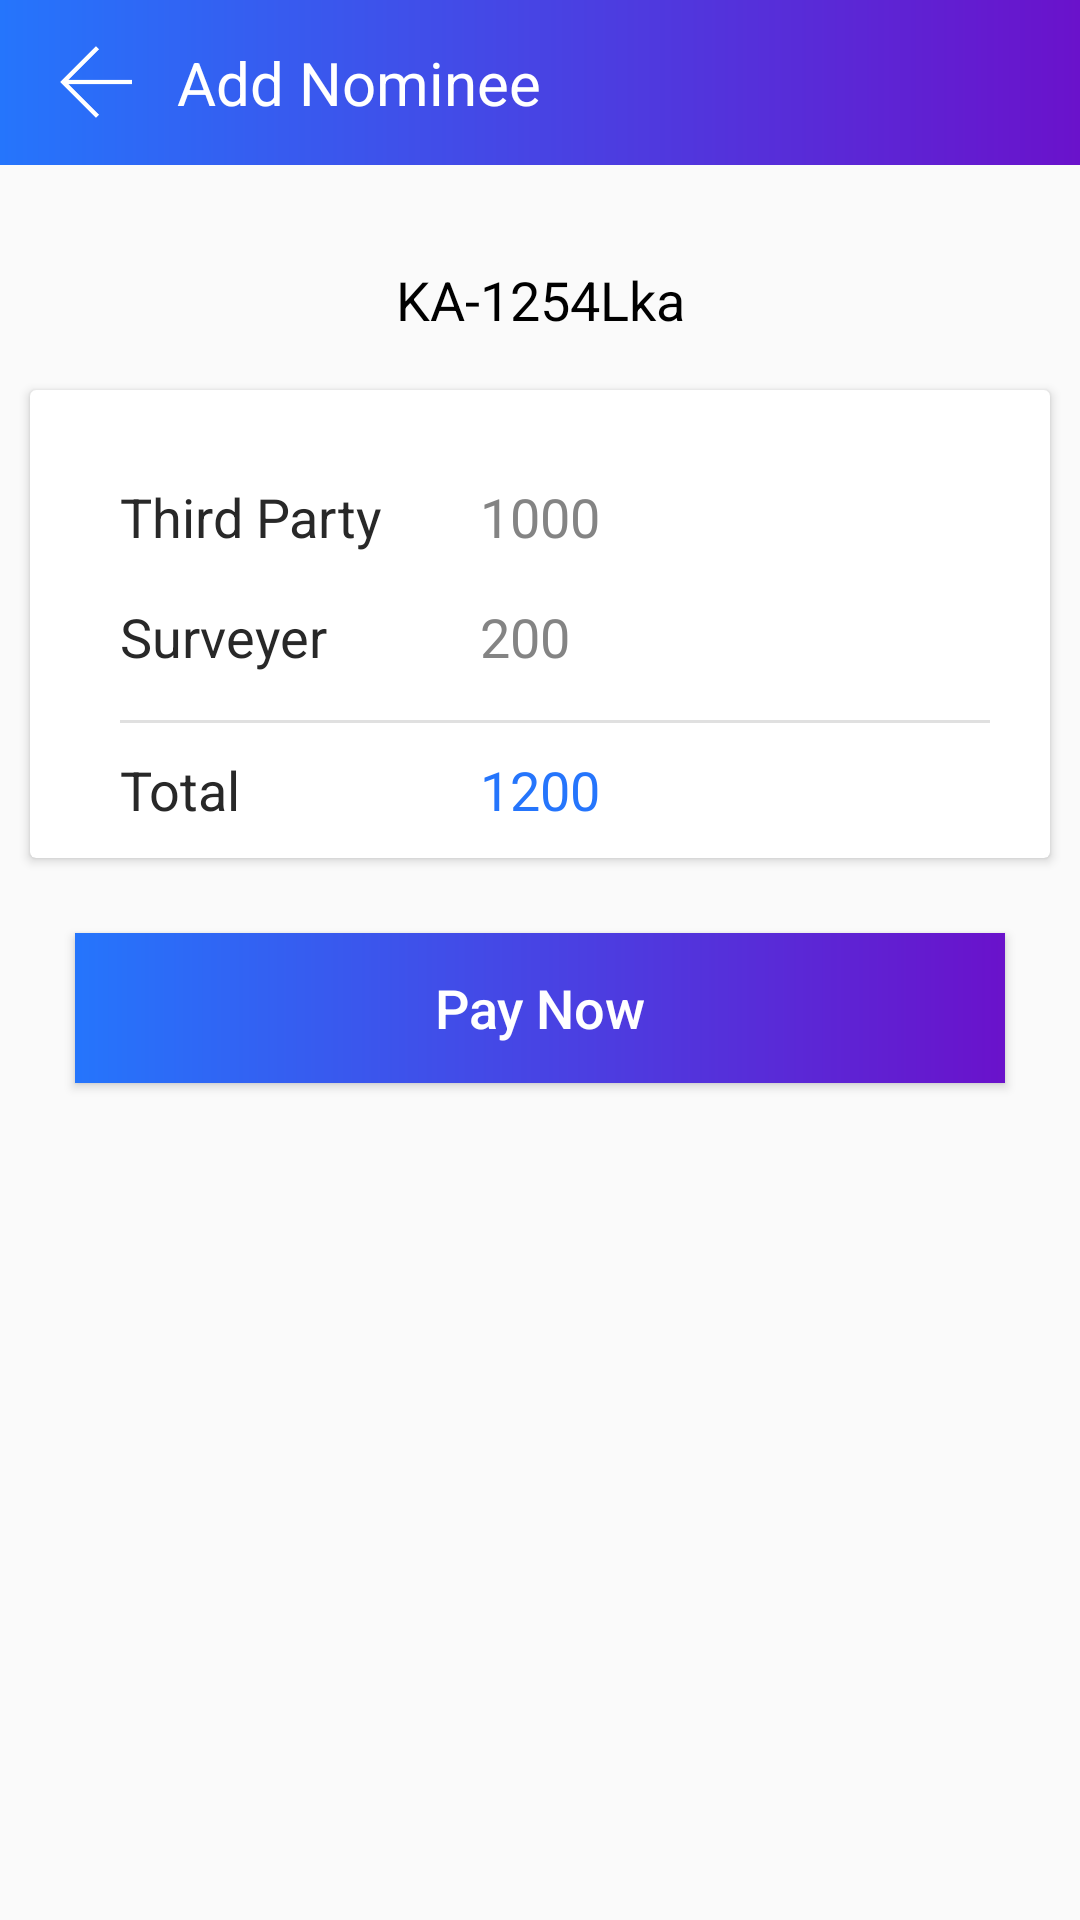

Screen size 1080 × 1920. Icon name, then its box in pixels as box(x1, y1, x2, y2):
back: box(60, 46, 132, 118)
